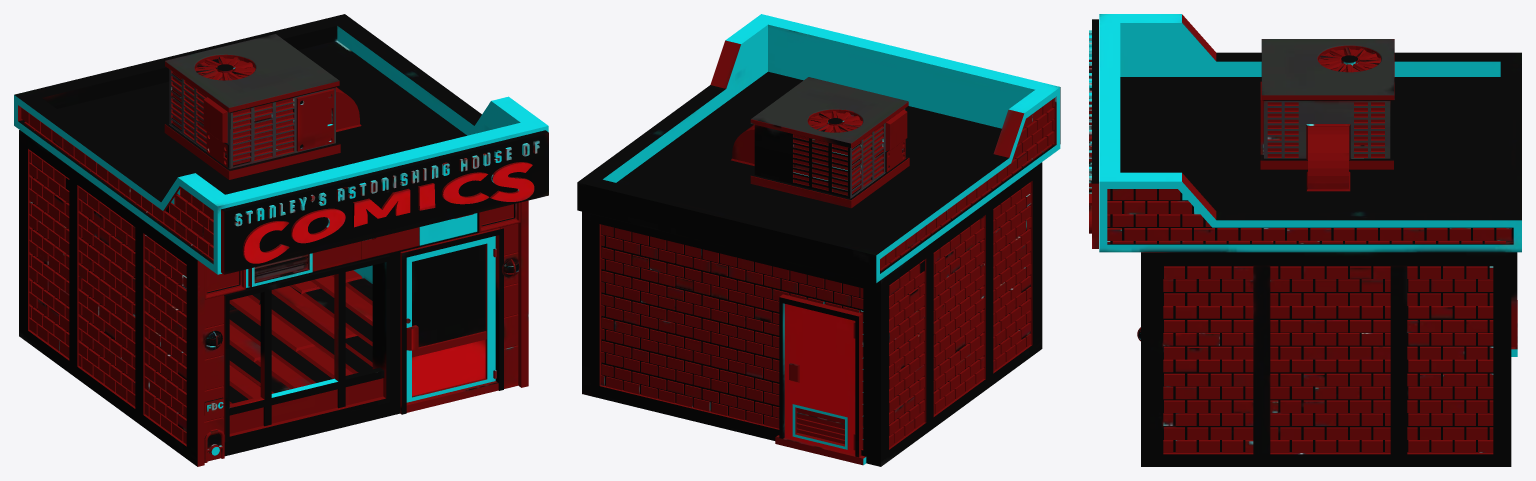
The model's file is comic-store-size-3.glb.
The picture shows the model from 3 angles, left to right: view 1: azimuth 30°, elevation 25°; view 2: azimuth 150°, elevation 25°; view 3: azimuth 270°, elevation 25°; orthographic projection. The views are drawn at different scales.
Visible parts, largest first — view 1: default; view 2: default; view 3: default.
Boxes of the visible parts, left/top/right/bottom form: default: left=14, top=14, right=548, bottom=466; default: left=577, top=14, right=1060, bottom=466; default: left=1089, top=14, right=1521, bottom=466.
Bounding box in the file's own units: 0.4687 × 0.399 × 0.5116.
1 material, 1 textured.
